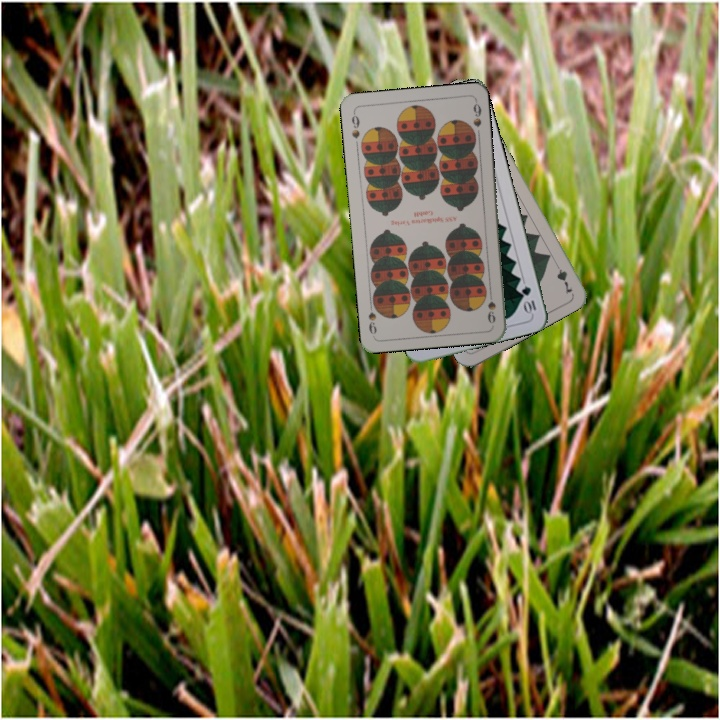G10: (517, 282, 539, 316)
G7: (550, 257, 576, 297)
S9: (483, 285, 498, 326), (347, 108, 362, 141)
